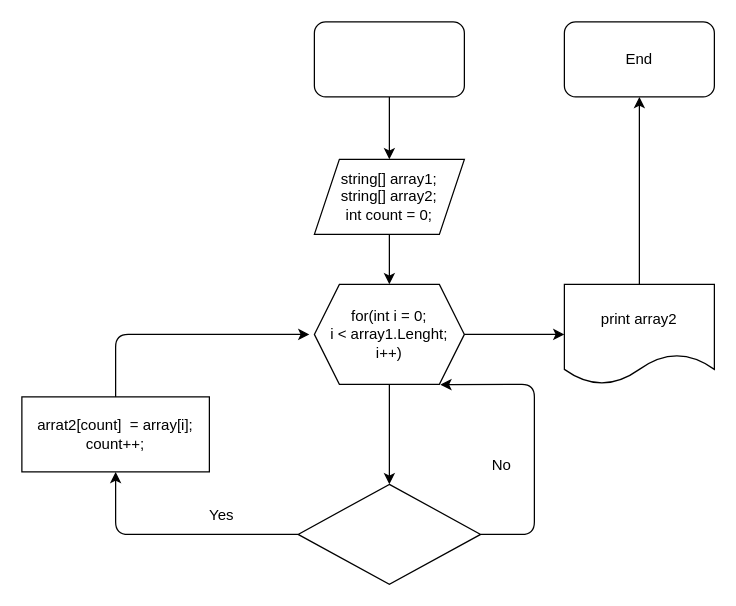
Some shapes in this 736 by 606 pixel diagram are drawn without their labels. The box of each missing label's shape, as (x1, y1, x2, y2) in pixels:
if( array1.Lenght <=3): (297, 483, 481, 584)
Start: (313, 21, 464, 97)
